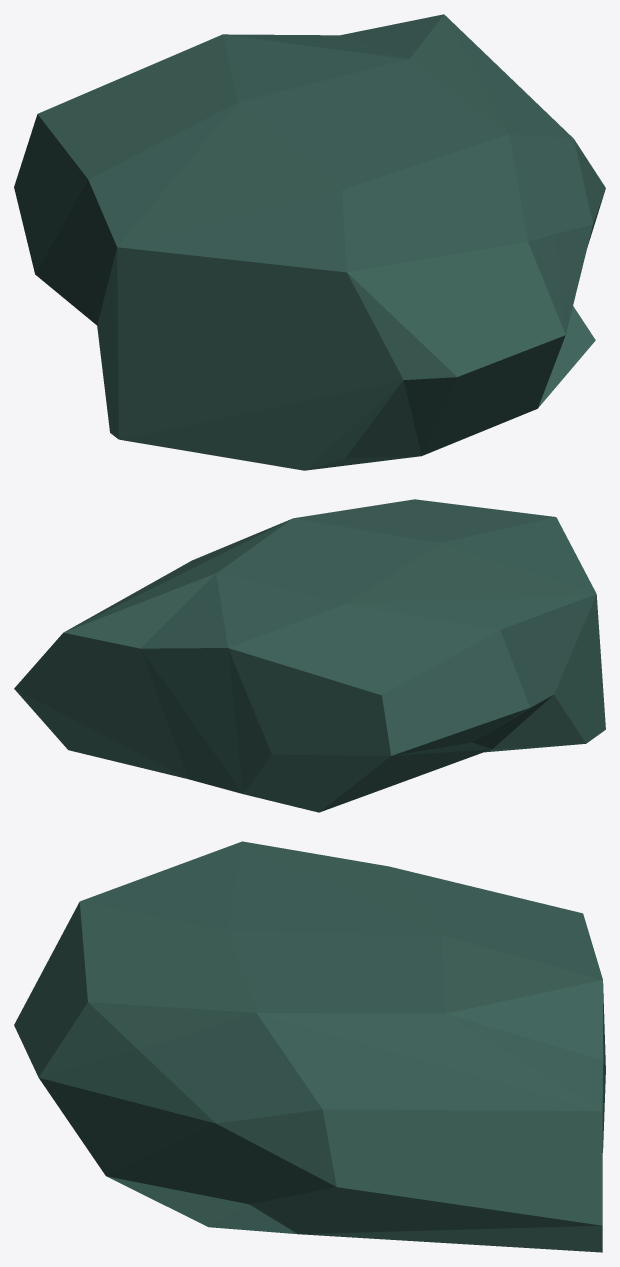
Rendered from Stone_3.fbx.
The picture shows the model from 3 angles, top to bottom: view 1: azimuth 30°, elevation 25°; view 2: azimuth 150°, elevation 25°; view 3: azimuth 270°, elevation 25°; orthographic projection. The views are drawn at different scales.
Visible parts, largest first — view 1: Stone 3; view 2: Stone 3; view 3: Stone 3.
Part boxes in pixels (x1,y1,x2,y2): Stone 3: (14, 14, 605, 470); Stone 3: (14, 499, 605, 812); Stone 3: (14, 841, 605, 1252).
Bounding box in the file's own units: 2907 × 957 × 2713.
